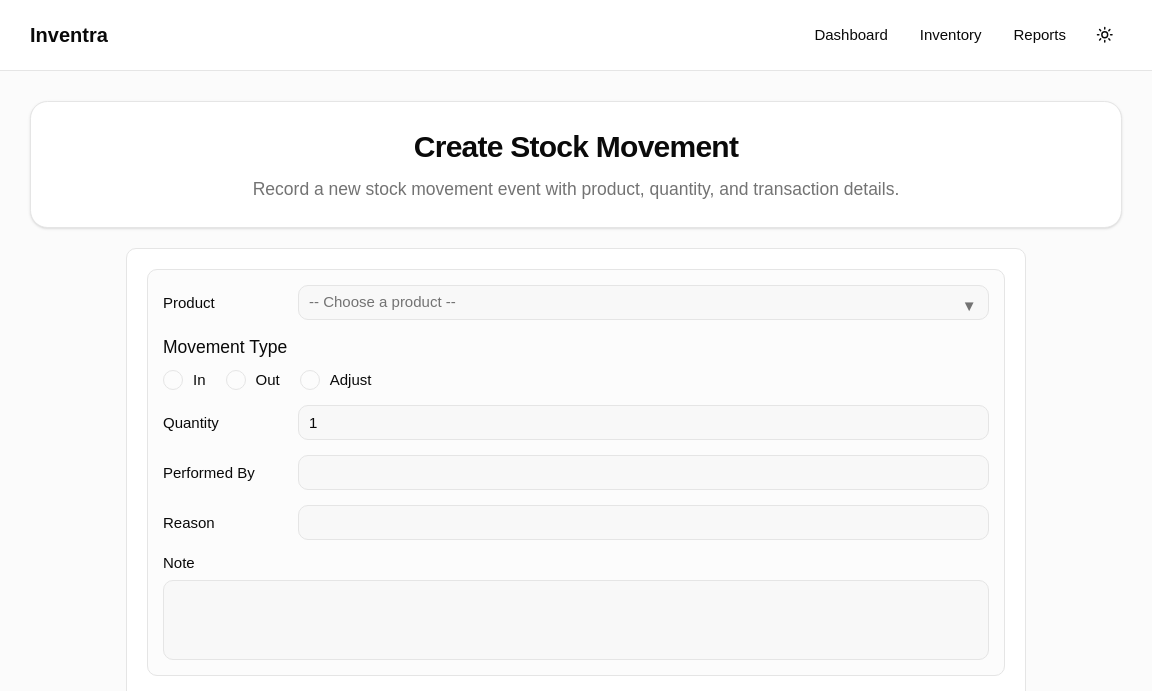
Stock Movement Create Page Tests › loads products on mount
Click the dropdown labelled "-- Choose a product -- ▼". click: (382, 302)
box: [298,285,989,320]
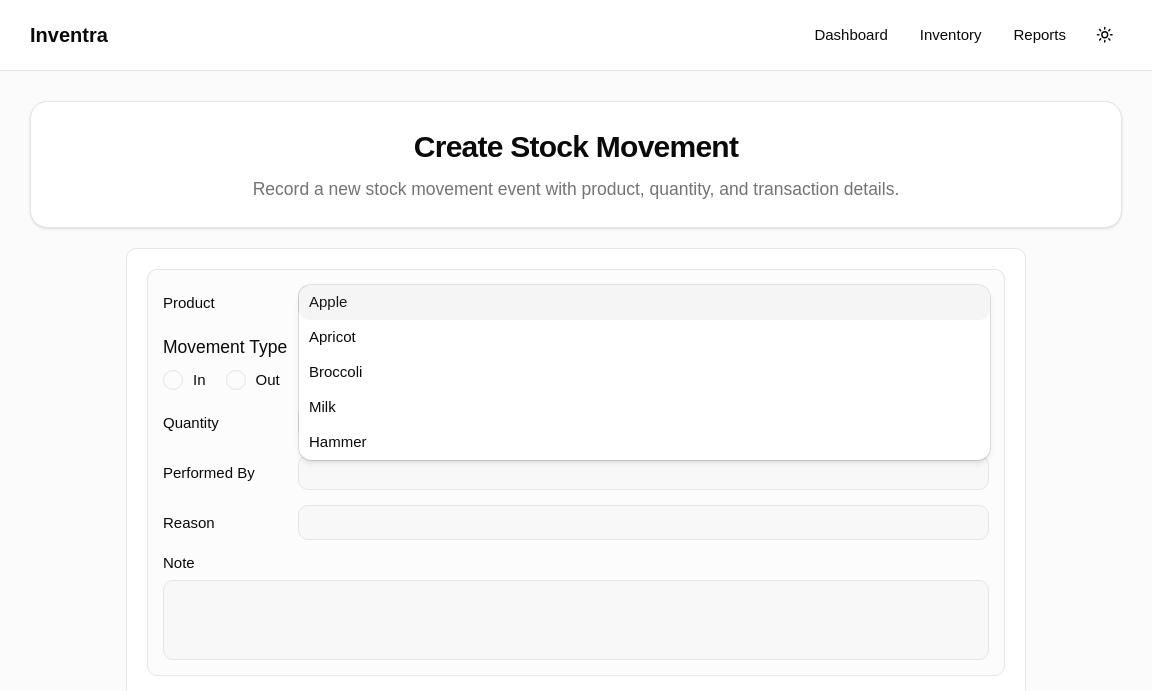
Now the option "Apple" is shown, box [299,285,990,320]
